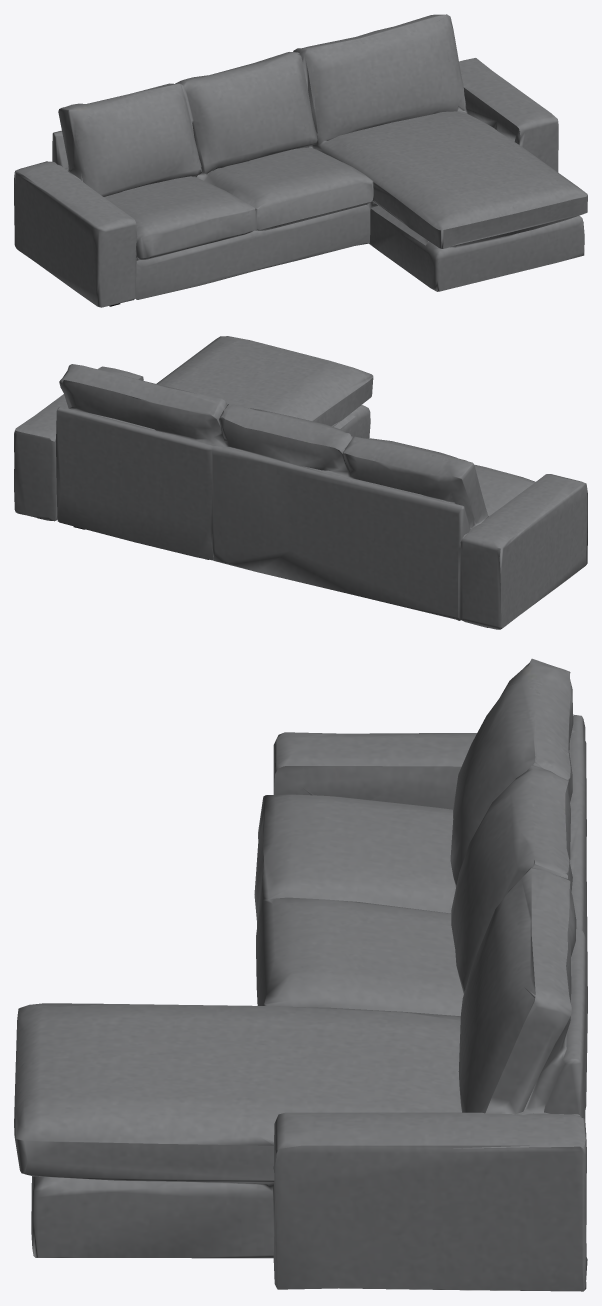
Rendered from kivik-sofa-3-plazas-con-chaiselongue-tibbleby-beisgris-99440590.glb.
The picture shows the model from 3 angles, top to bottom: view 1: azimuth 30°, elevation 25°; view 2: azimuth 150°, elevation 25°; view 3: azimuth 270°, elevation 25°; orthographic projection. The views are drawn at different scales.
Visible parts, largest first — view 1: ProcessedMeshNode; view 2: ProcessedMeshNode; view 3: ProcessedMeshNode.
Part boxes in pixels (left/top/right/bottom): ProcessedMeshNode: left=14, top=14, right=587, bottom=307; ProcessedMeshNode: left=14, top=336, right=587, bottom=629; ProcessedMeshNode: left=14, top=658, right=587, bottom=1291.
Size of the model in its own units: 2.79 by 0.8482 by 1.63.
Materials: 1 (1 with a texture image).
